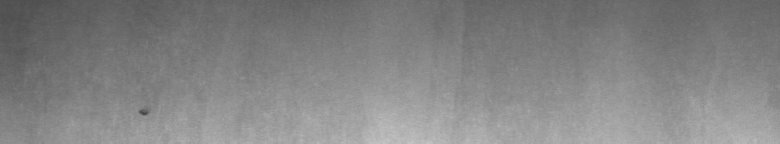fi: (136, 101, 150, 125)
